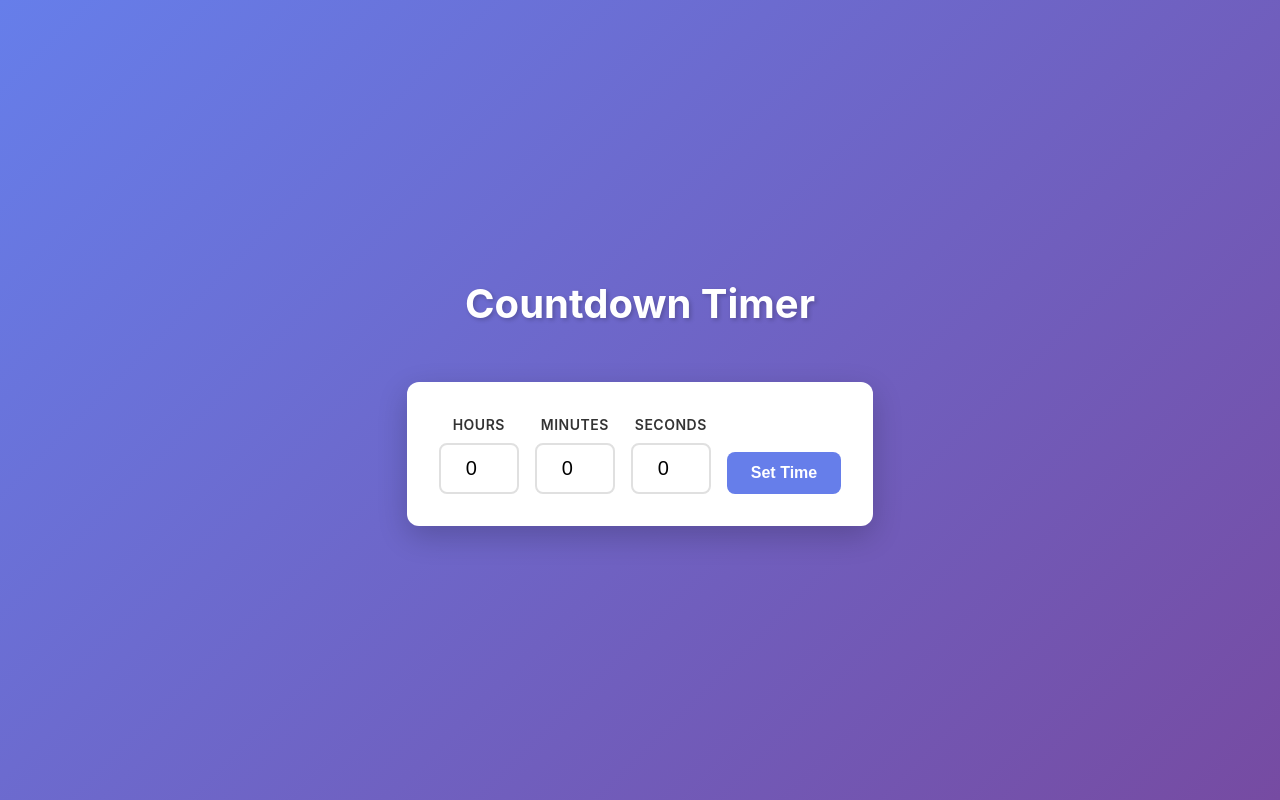
Test: App › updates CountdownTimer with correct time from TimeInput
This screenshot has width=1280, height=800.
Type "1" into the number field labelled "Hours" at (479, 468), box [439, 443, 519, 494]
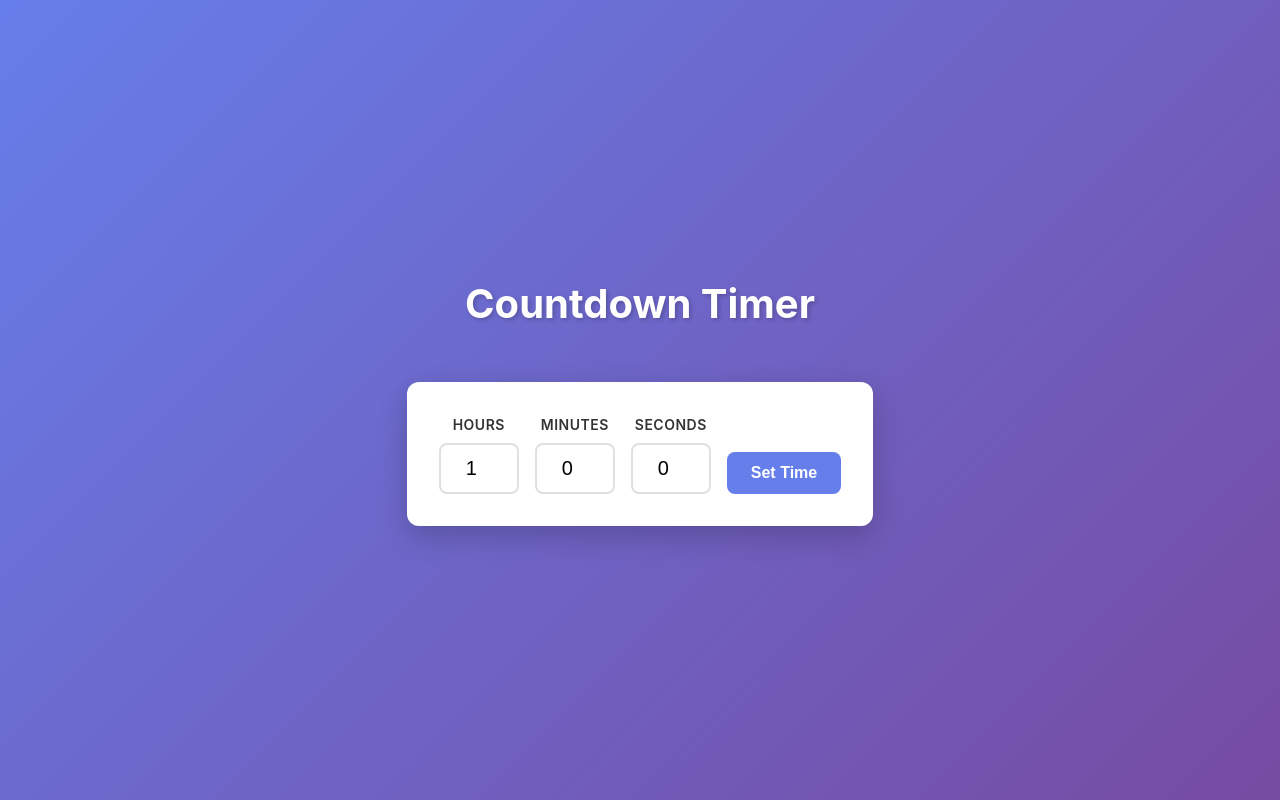
Type "30" into the number field labelled "Minutes" at (575, 468), box [535, 443, 615, 494]
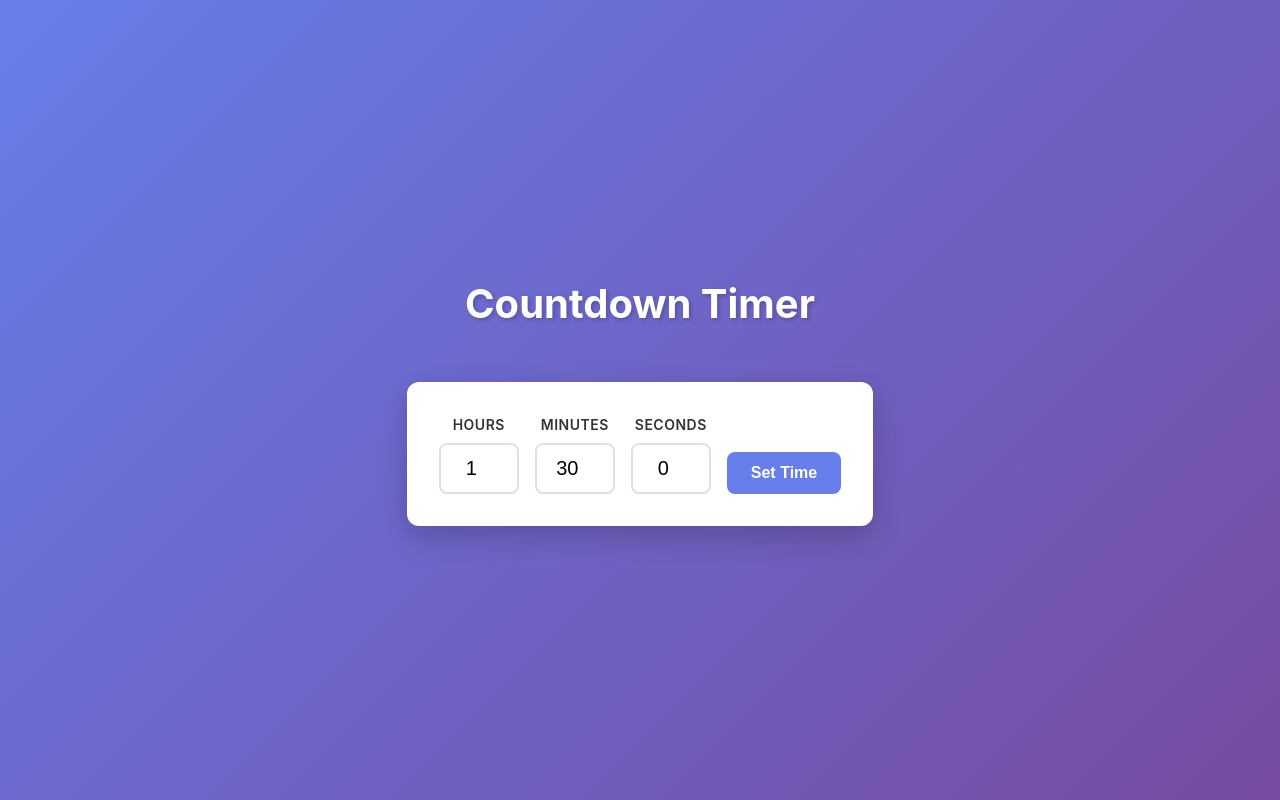
Type "45" into the number field labelled "Seconds" at (671, 468), box [631, 443, 711, 494]
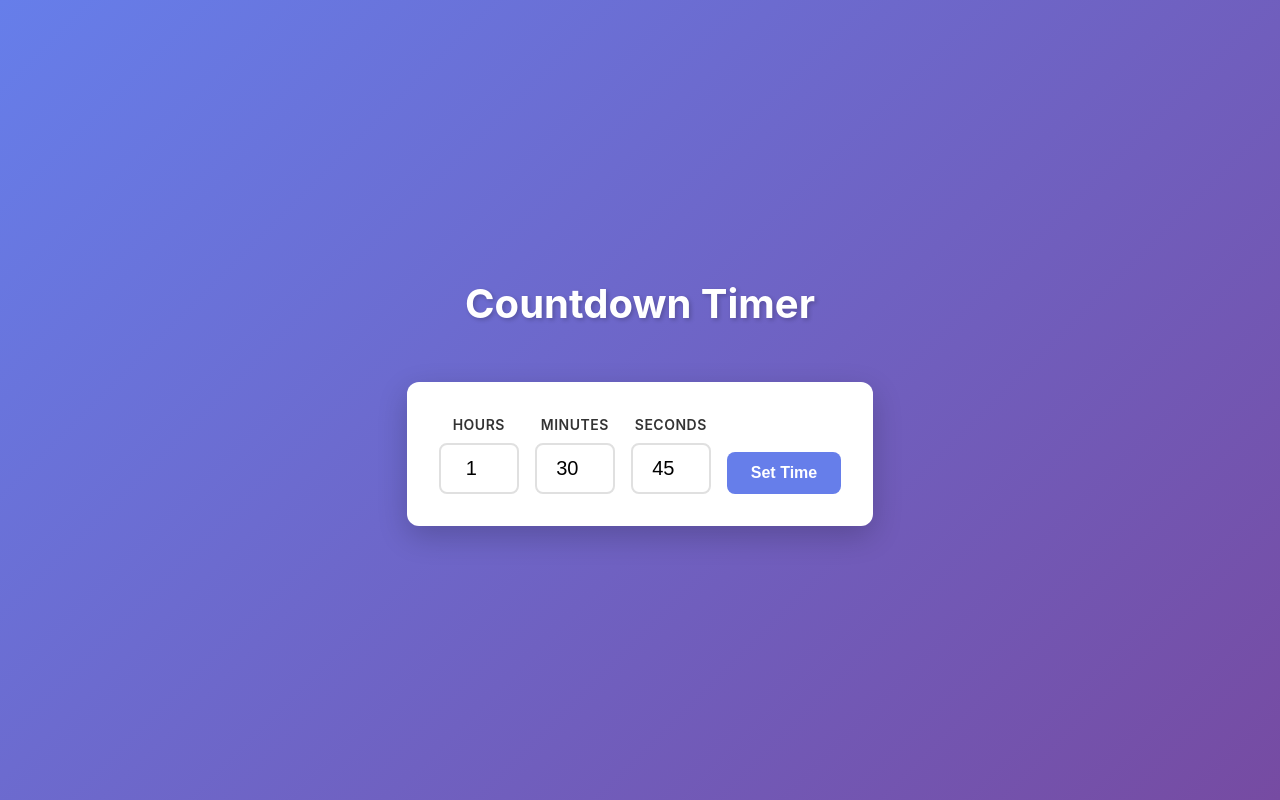
Click the button "Set Time" at (784, 473), box [727, 452, 841, 494]
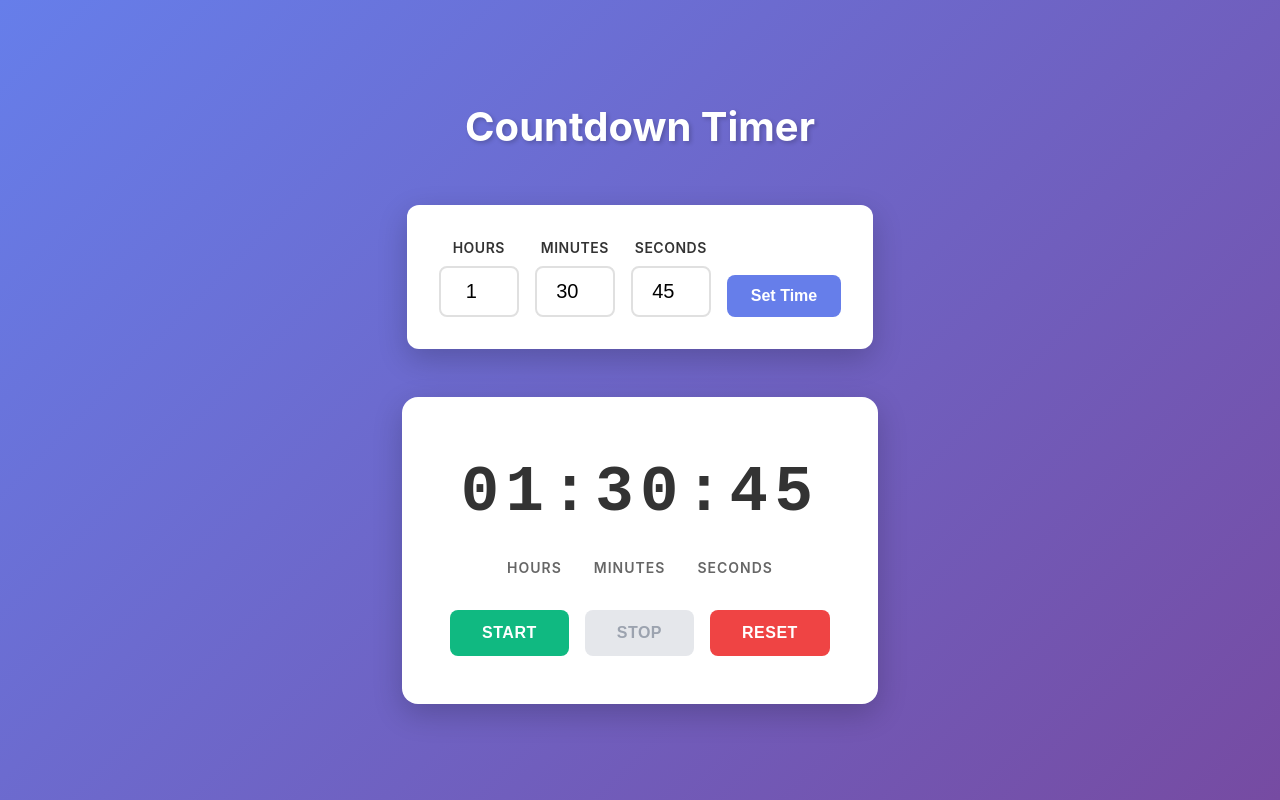
Now the text "01:30:45" is shown, box [461, 444, 819, 540]
